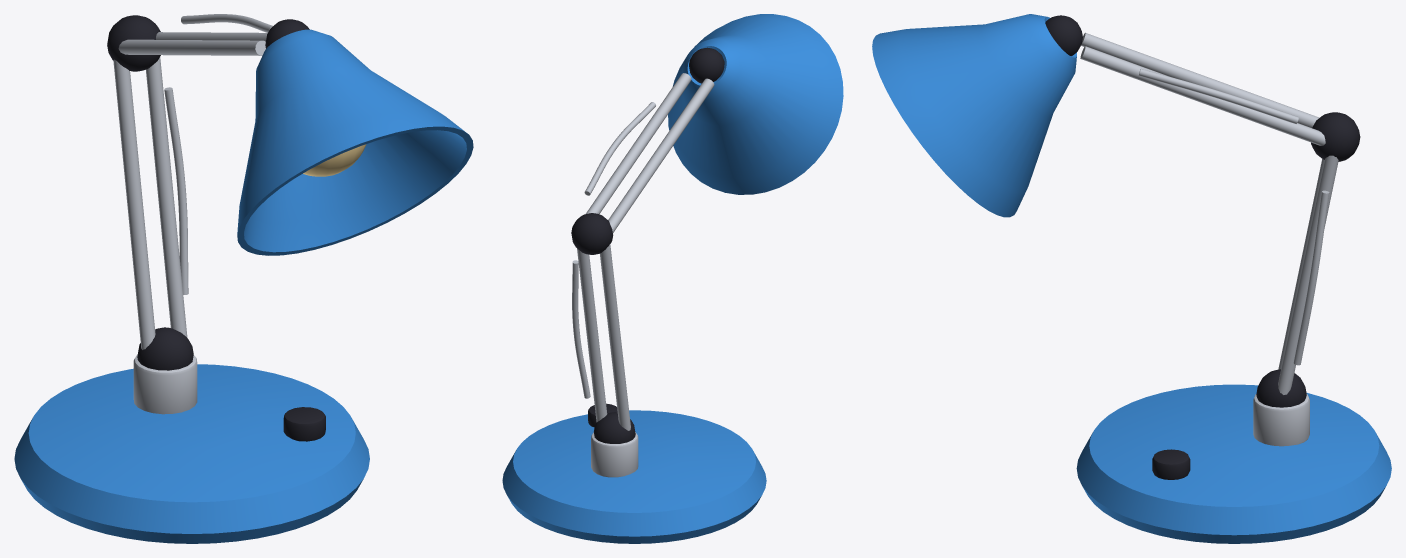
Rendered from DeskLamp.fbx.
3 views of the same model, side by side, from view 1: azimuth 30°, elevation 25°; view 2: azimuth 150°, elevation 25°; view 3: azimuth 270°, elevation 25° (orthographic). The views are drawn at different scales.
Visible parts, largest first — view 1: Paint, Steel, Dark, Bulb; view 2: Paint, Steel, Dark; view 3: Paint, Steel, Dark.
Boxes of the visible parts, box(x1,y1,x2,y2) form: Paint: box(14, 29, 473, 543); Steel: box(113, 14, 272, 414); Dark: box(107, 15, 325, 441); Bulb: box(303, 144, 366, 176); Paint: box(502, 14, 843, 543); Steel: box(572, 73, 714, 477); Dark: box(571, 47, 724, 443); Paint: box(872, 14, 1391, 543); Steel: box(1080, 32, 1338, 446); Dark: box(1045, 15, 1360, 479).
Size of the model in its own units: 100 by 162 by 165.
